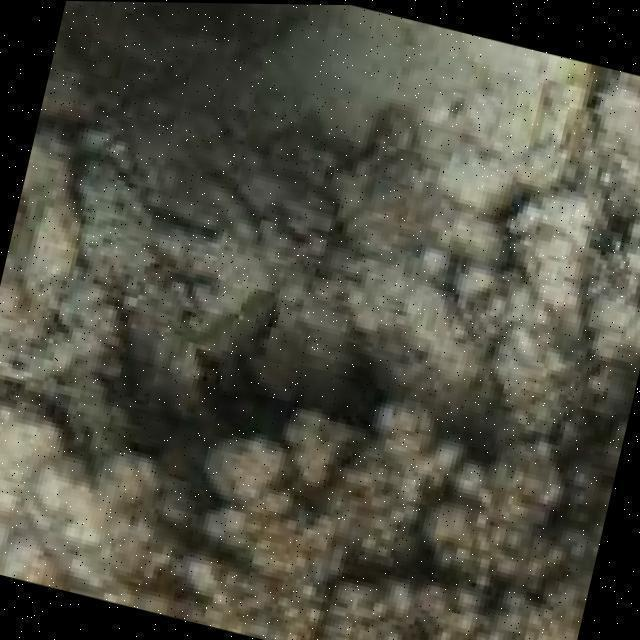Dead Coral: (90, 149, 640, 378), (157, 410, 603, 640)
